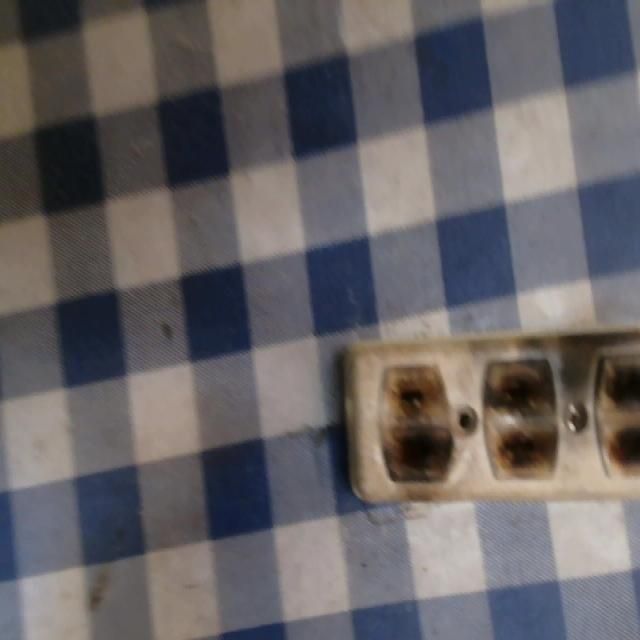-: (380, 355, 457, 481), (484, 354, 552, 482), (595, 352, 639, 480)
